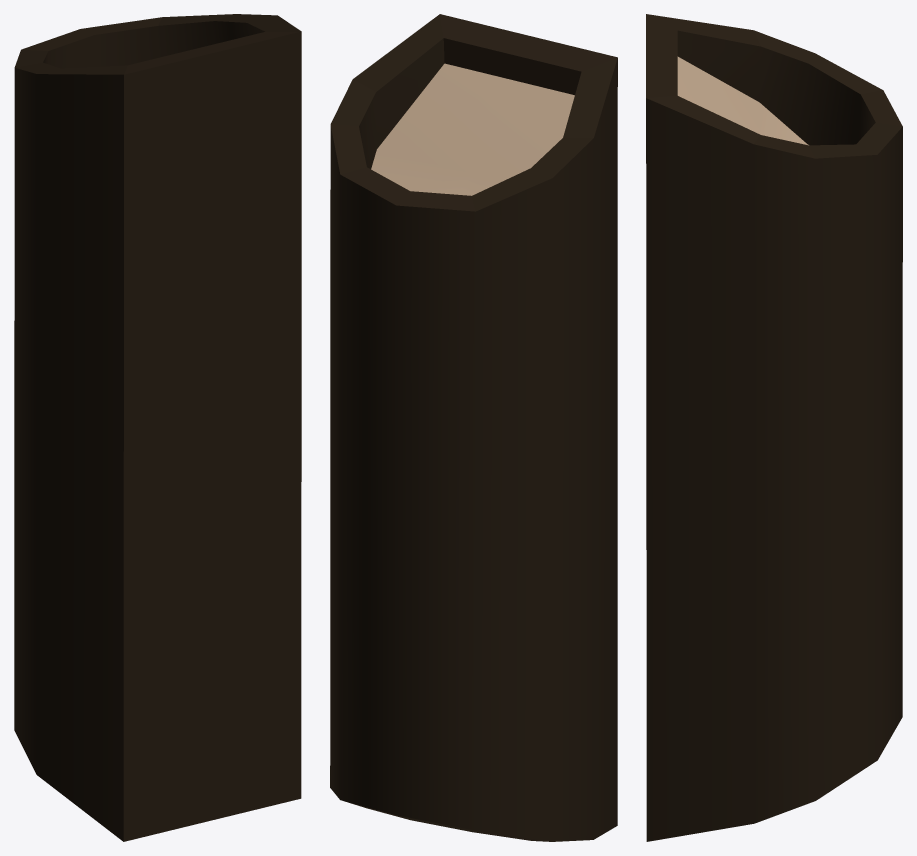
The model's file is Prop_sci_lamp2.FBX.
3 renders of one model, left to right at view 1: azimuth 30°, elevation 25°; view 2: azimuth 150°, elevation 25°; view 3: azimuth 270°, elevation 25°, orthographic. The views are drawn at different scales.
Visible parts, largest first — view 1: Prop_sci_lamp2; view 2: Prop_sci_lamp2; view 3: Prop_sci_lamp2.
Part boxes in pixels (x1,y1,x2,y2): Prop_sci_lamp2: [14, 14, 301, 841]; Prop_sci_lamp2: [330, 14, 617, 841]; Prop_sci_lamp2: [646, 14, 902, 841].
Size of the model in its own units: 7.15 by 21.75 by 6.8.
